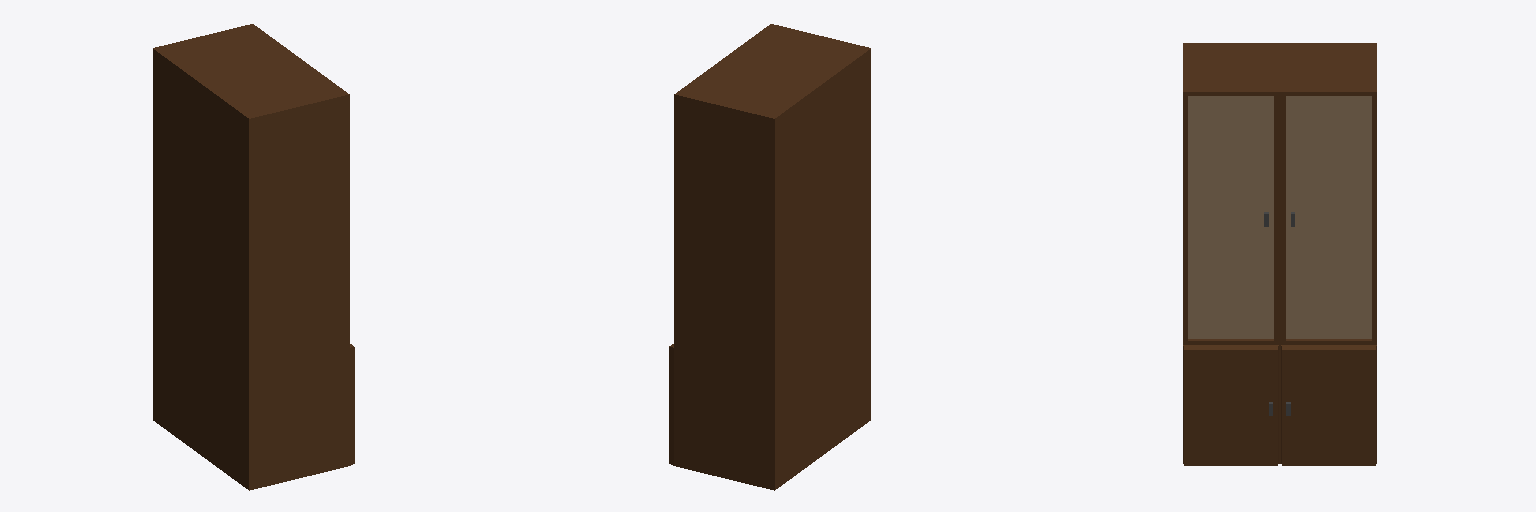
Rendered from cupboard.3.obj.
3 renders of one model, left to right at view 1: azimuth 30°, elevation 25°; view 2: azimuth 150°, elevation 25°; view 3: azimuth 270°, elevation 25°, orthographic.
Parts seen in each view (by area): view 1: Cube.036; view 2: Cube.036; view 3: Cube.036.
Part boxes in pixels (left/top/right/bottom): Cube.036: left=153, top=24, right=354, bottom=490; Cube.036: left=669, top=24, right=870, bottom=490; Cube.036: left=1183, top=43, right=1376, bottom=465.
Size of the model in its own units: 4.09 by 13.19 by 6.22.